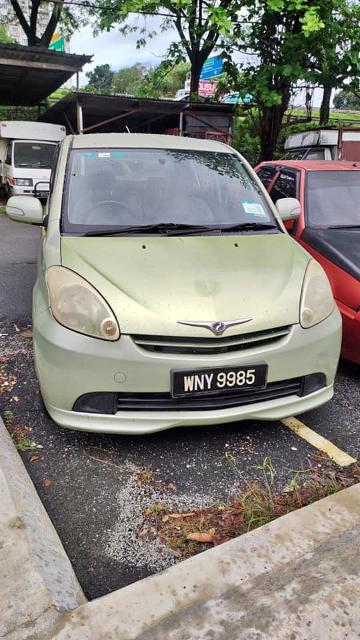License_Plate: (177, 366, 266, 400)
car: (18, 127, 344, 448)
